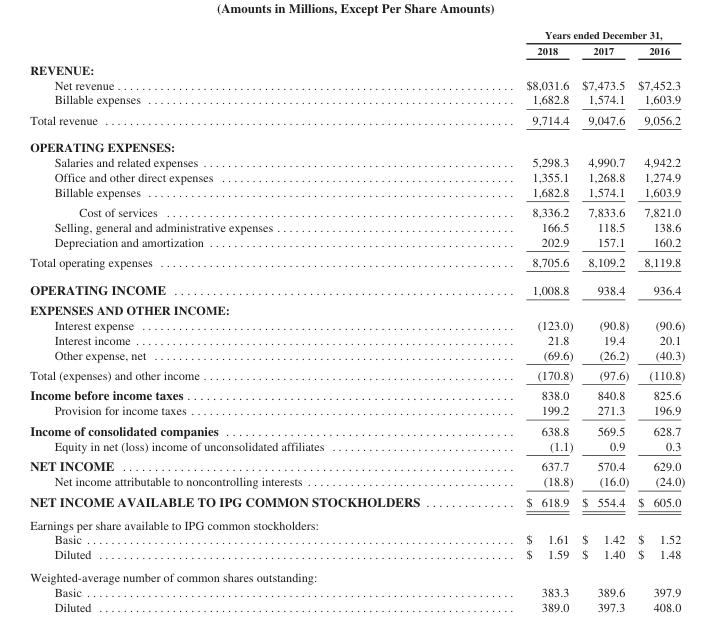table: (29, 28, 684, 613)
table column: (29, 28, 472, 613), (472, 28, 576, 613), (576, 28, 632, 613), (632, 28, 684, 613)
table column header: (29, 28, 684, 59)
table projected row header: (29, 133, 684, 154), (29, 565, 684, 584), (29, 59, 684, 77), (29, 299, 684, 317), (29, 513, 684, 531)
table row: (29, 109, 684, 133), (29, 251, 684, 275), (29, 275, 684, 299), (29, 490, 684, 513), (29, 133, 684, 154), (29, 364, 684, 384), (29, 419, 684, 438), (29, 546, 684, 565), (29, 565, 684, 584), (29, 59, 684, 77), (29, 91, 684, 109), (29, 201, 684, 219), (29, 233, 684, 251), (29, 299, 684, 317), (29, 384, 684, 402), (29, 455, 684, 473), (29, 513, 684, 531), (29, 42, 684, 59), (29, 184, 684, 201), (29, 347, 684, 364), (29, 402, 684, 419), (29, 438, 684, 455), (29, 473, 684, 490), (29, 154, 684, 169), (29, 169, 684, 184), (29, 317, 684, 332), (29, 332, 684, 347), (29, 531, 684, 546), (29, 598, 684, 613), (29, 28, 684, 42), (29, 77, 684, 91), (29, 219, 684, 233), (29, 584, 684, 598)
table spanning cell: (472, 28, 684, 42)
